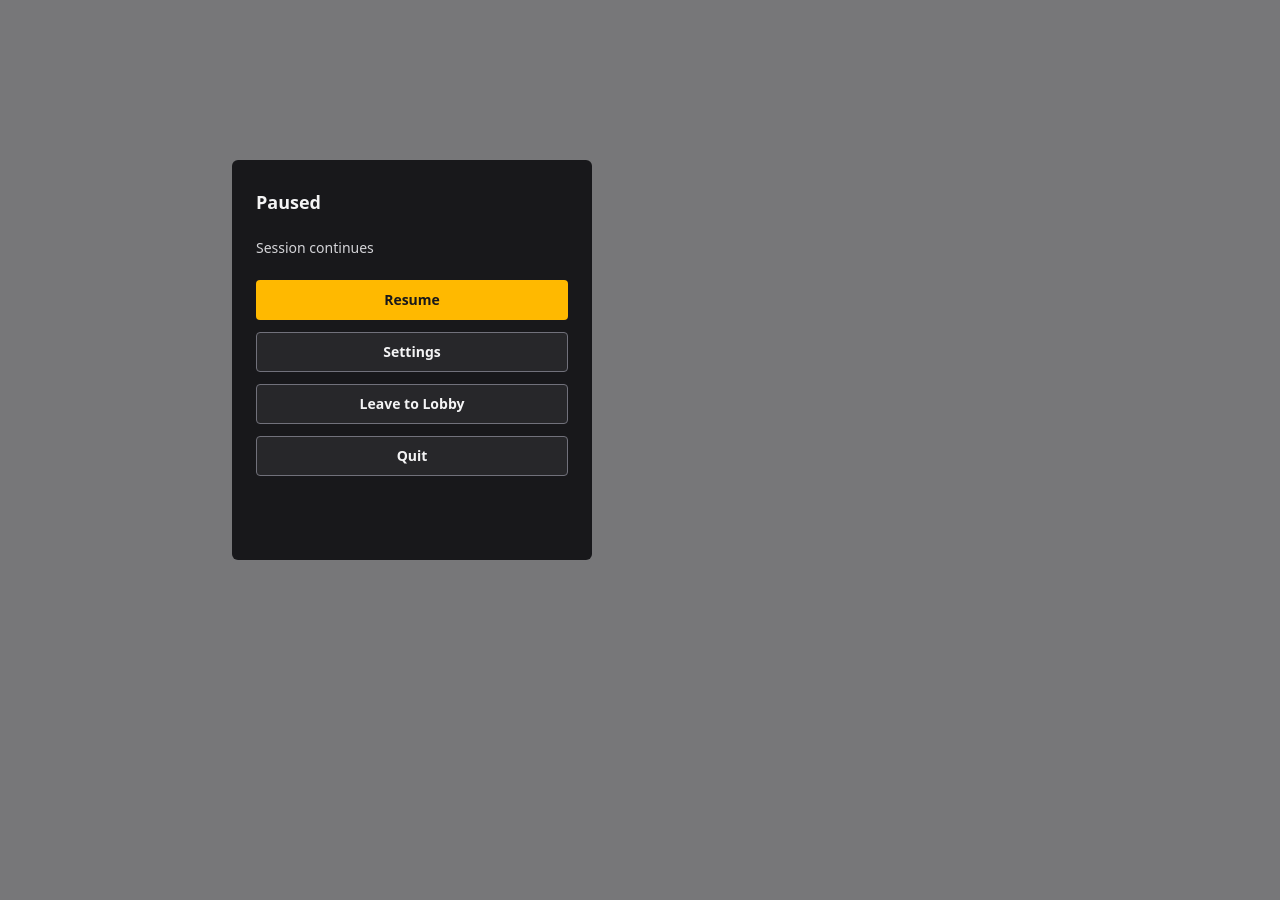
Test: PauseScreen › Leave to Lobby opens a confirmation with Cancel focused, Leave sends session.leave
Later steps or results of the test are not shown.
Click the button "Leave to Lobby" at (412, 404), box [256,384,568,424]
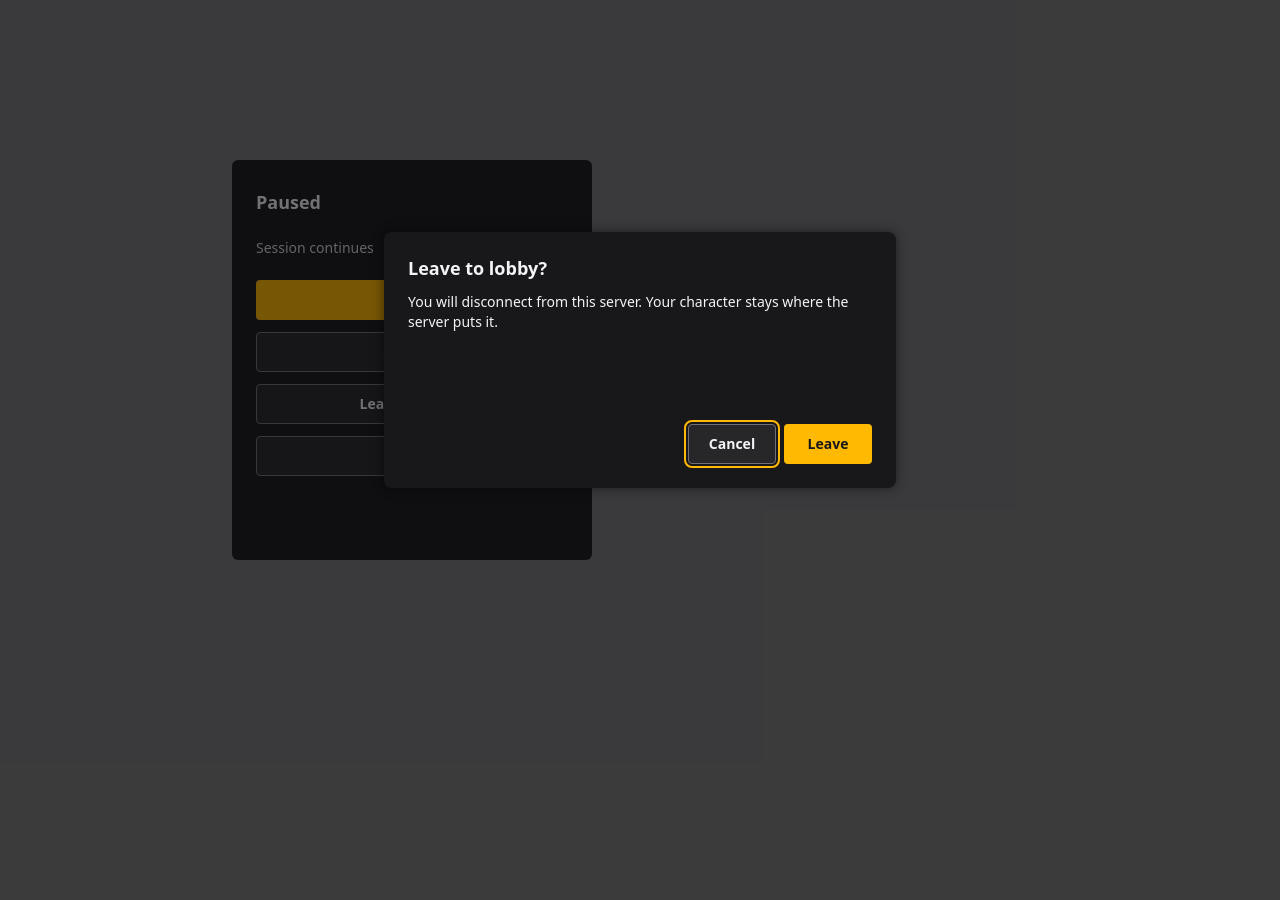
Check: the text "You will disconnect from this server" is shown, box [408,292,848,331]
